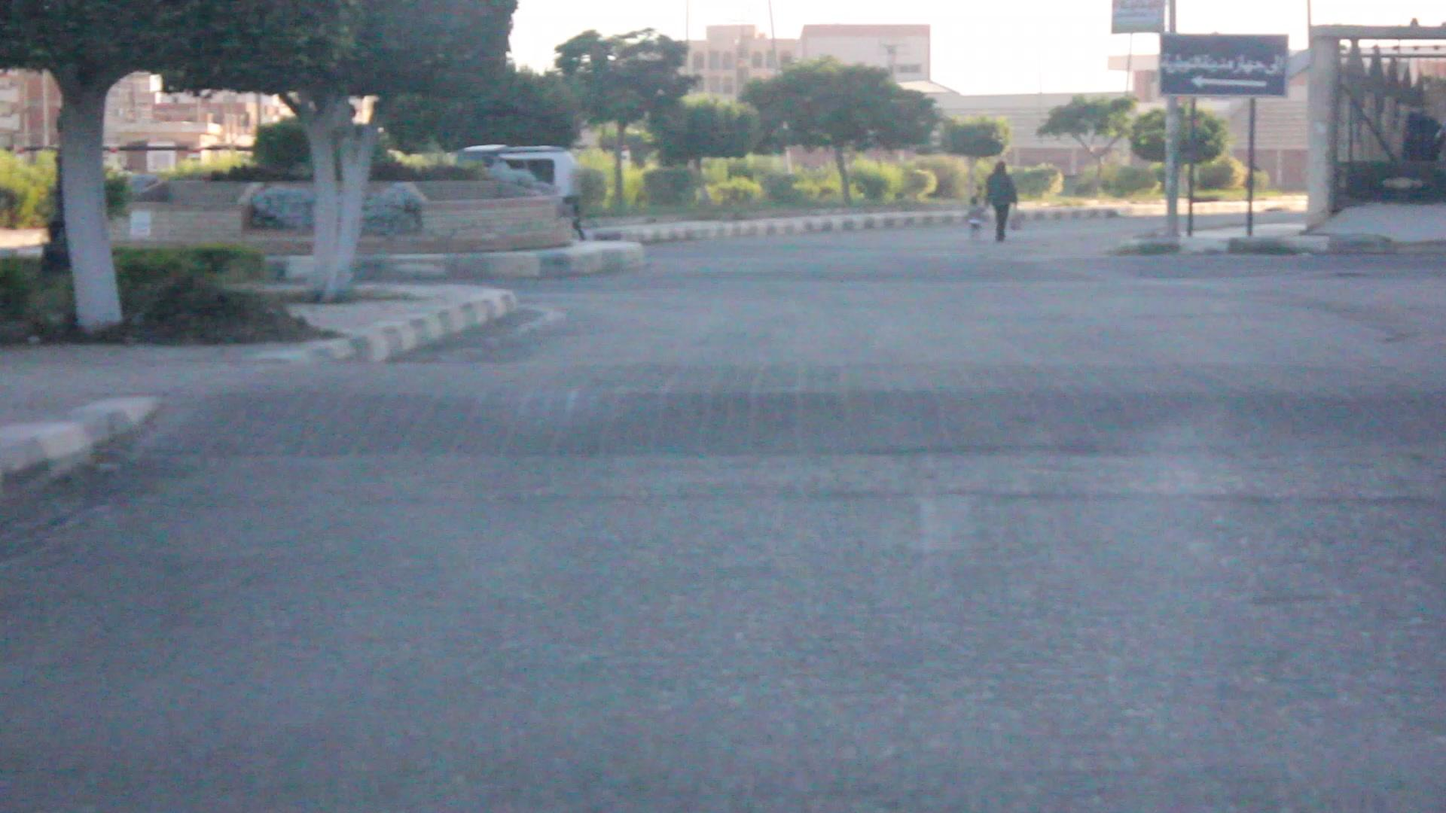Bump: (113, 342, 1431, 457)
